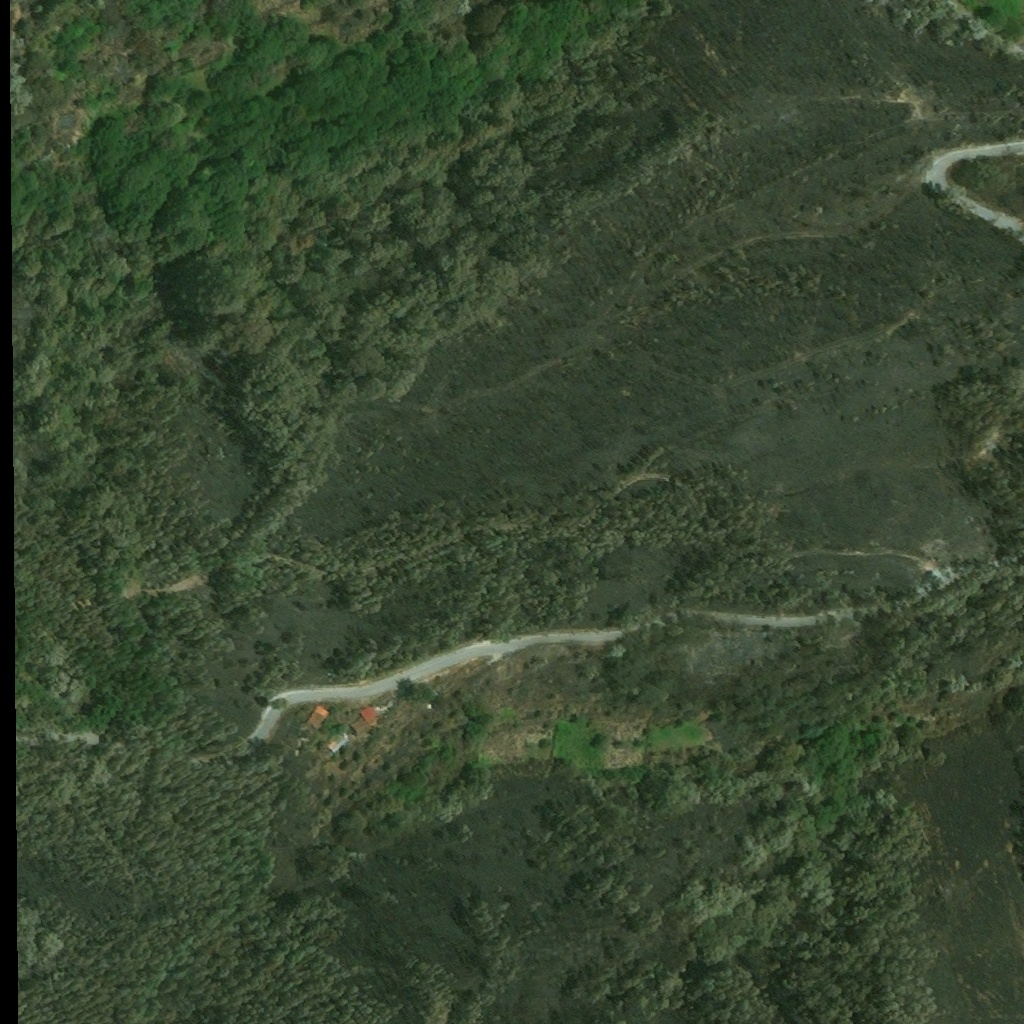0 no-damage: (346, 703, 378, 737), (300, 706, 327, 732), (324, 731, 351, 753)
